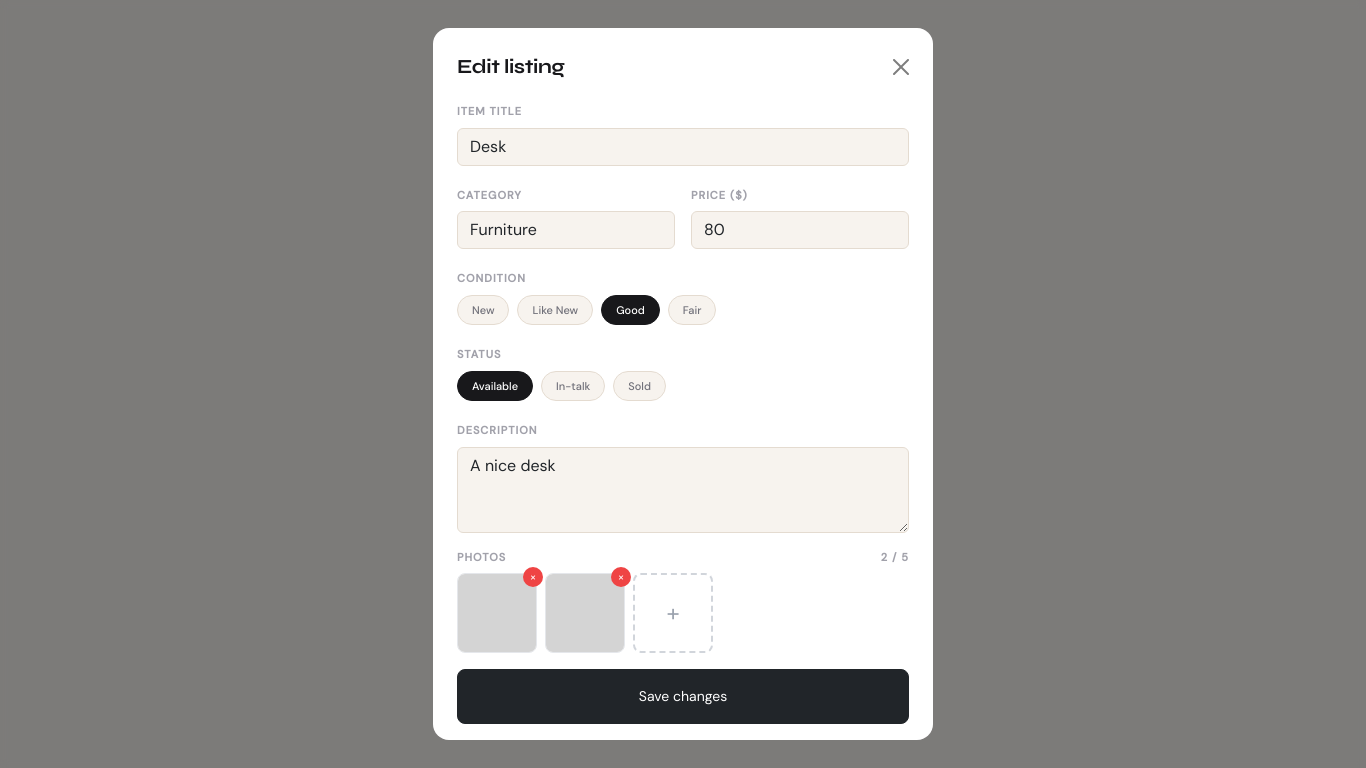
it: EditListingModal — image management › updates count label after removing a photo
Click the 1st button "×". click: click(533, 577)
box: [523,567,543,587]
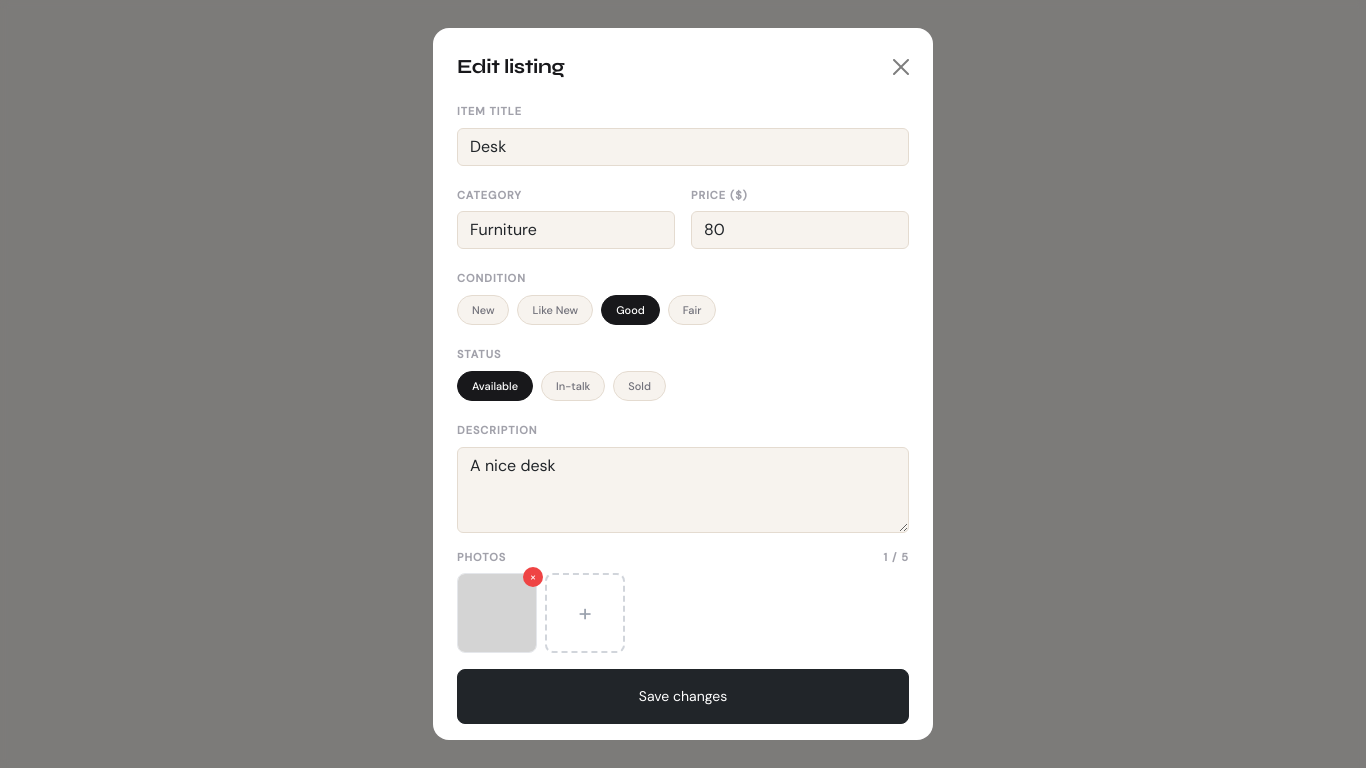
Expected: the text "1 / 5" is shown, [884,548,909,565]
